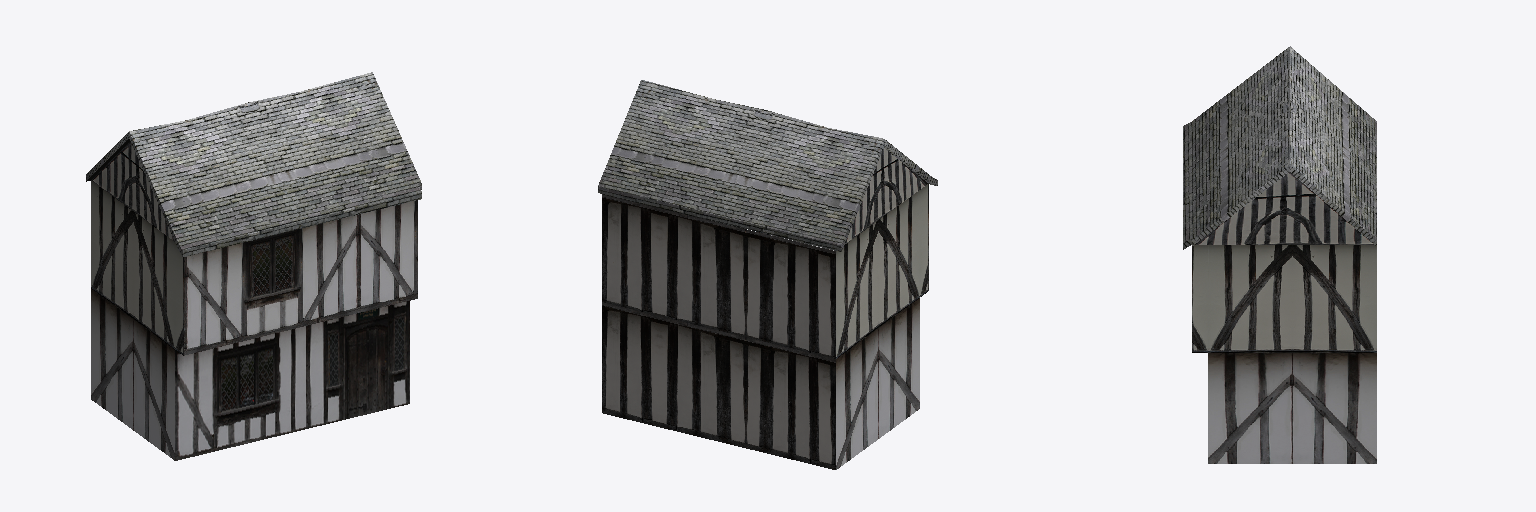
The picture shows the model from 3 angles: view 1: azimuth 30°, elevation 25°; view 2: azimuth 150°, elevation 25°; view 3: azimuth 270°, elevation 25°; orthographic projection.
Visible parts, largest first — view 1: __Form2, __Form3; view 2: __Form2, __Form3; view 3: __Form2, __Form3.
Part boxes in pixels (left/top/right/bottom): __Form2: left=91, top=181, right=417, bottom=460; __Form3: left=86, top=72, right=421, bottom=256; __Form2: left=602, top=184, right=928, bottom=469; __Form3: left=598, top=80, right=937, bottom=251; __Form2: left=1192, top=244, right=1376, bottom=463; __Form3: left=1183, top=46, right=1376, bottom=249.
Bounding box in the file's own units: 241 × 284 × 166.
1 materials, 1 textured.